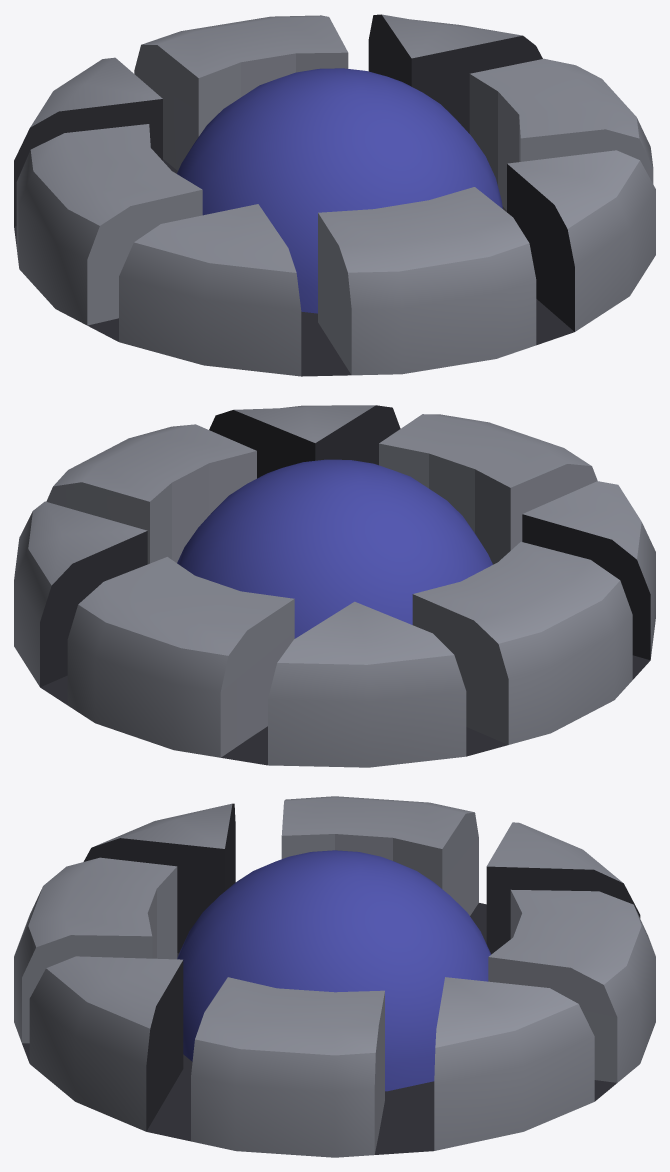
File: Level 2 Small Shootable Bomb.fbx
3 renders of one model, top to bottom at view 1: azimuth 30°, elevation 25°; view 2: azimuth 150°, elevation 25°; view 3: azimuth 270°, elevation 25°, orthographic.
Visible parts, largest first — view 1: pSphere2; view 2: pSphere2; view 3: pSphere2.
Part boxes in pixels (x1=…): pSphere2: x1=14, y1=14, x2=655, y2=376; pSphere2: x1=14, y1=405, x2=655, y2=767; pSphere2: x1=14, y1=796, x2=655, y2=1157.
Size of the model in its own units: 630 by 169 by 630.
